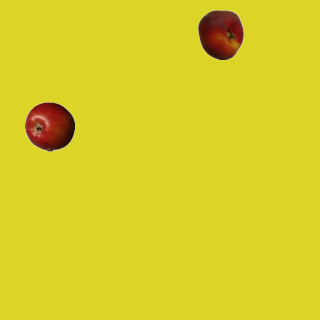Apple Braeburn: (24, 101, 74, 151)
Nectarine Flat: (195, 9, 245, 59)
